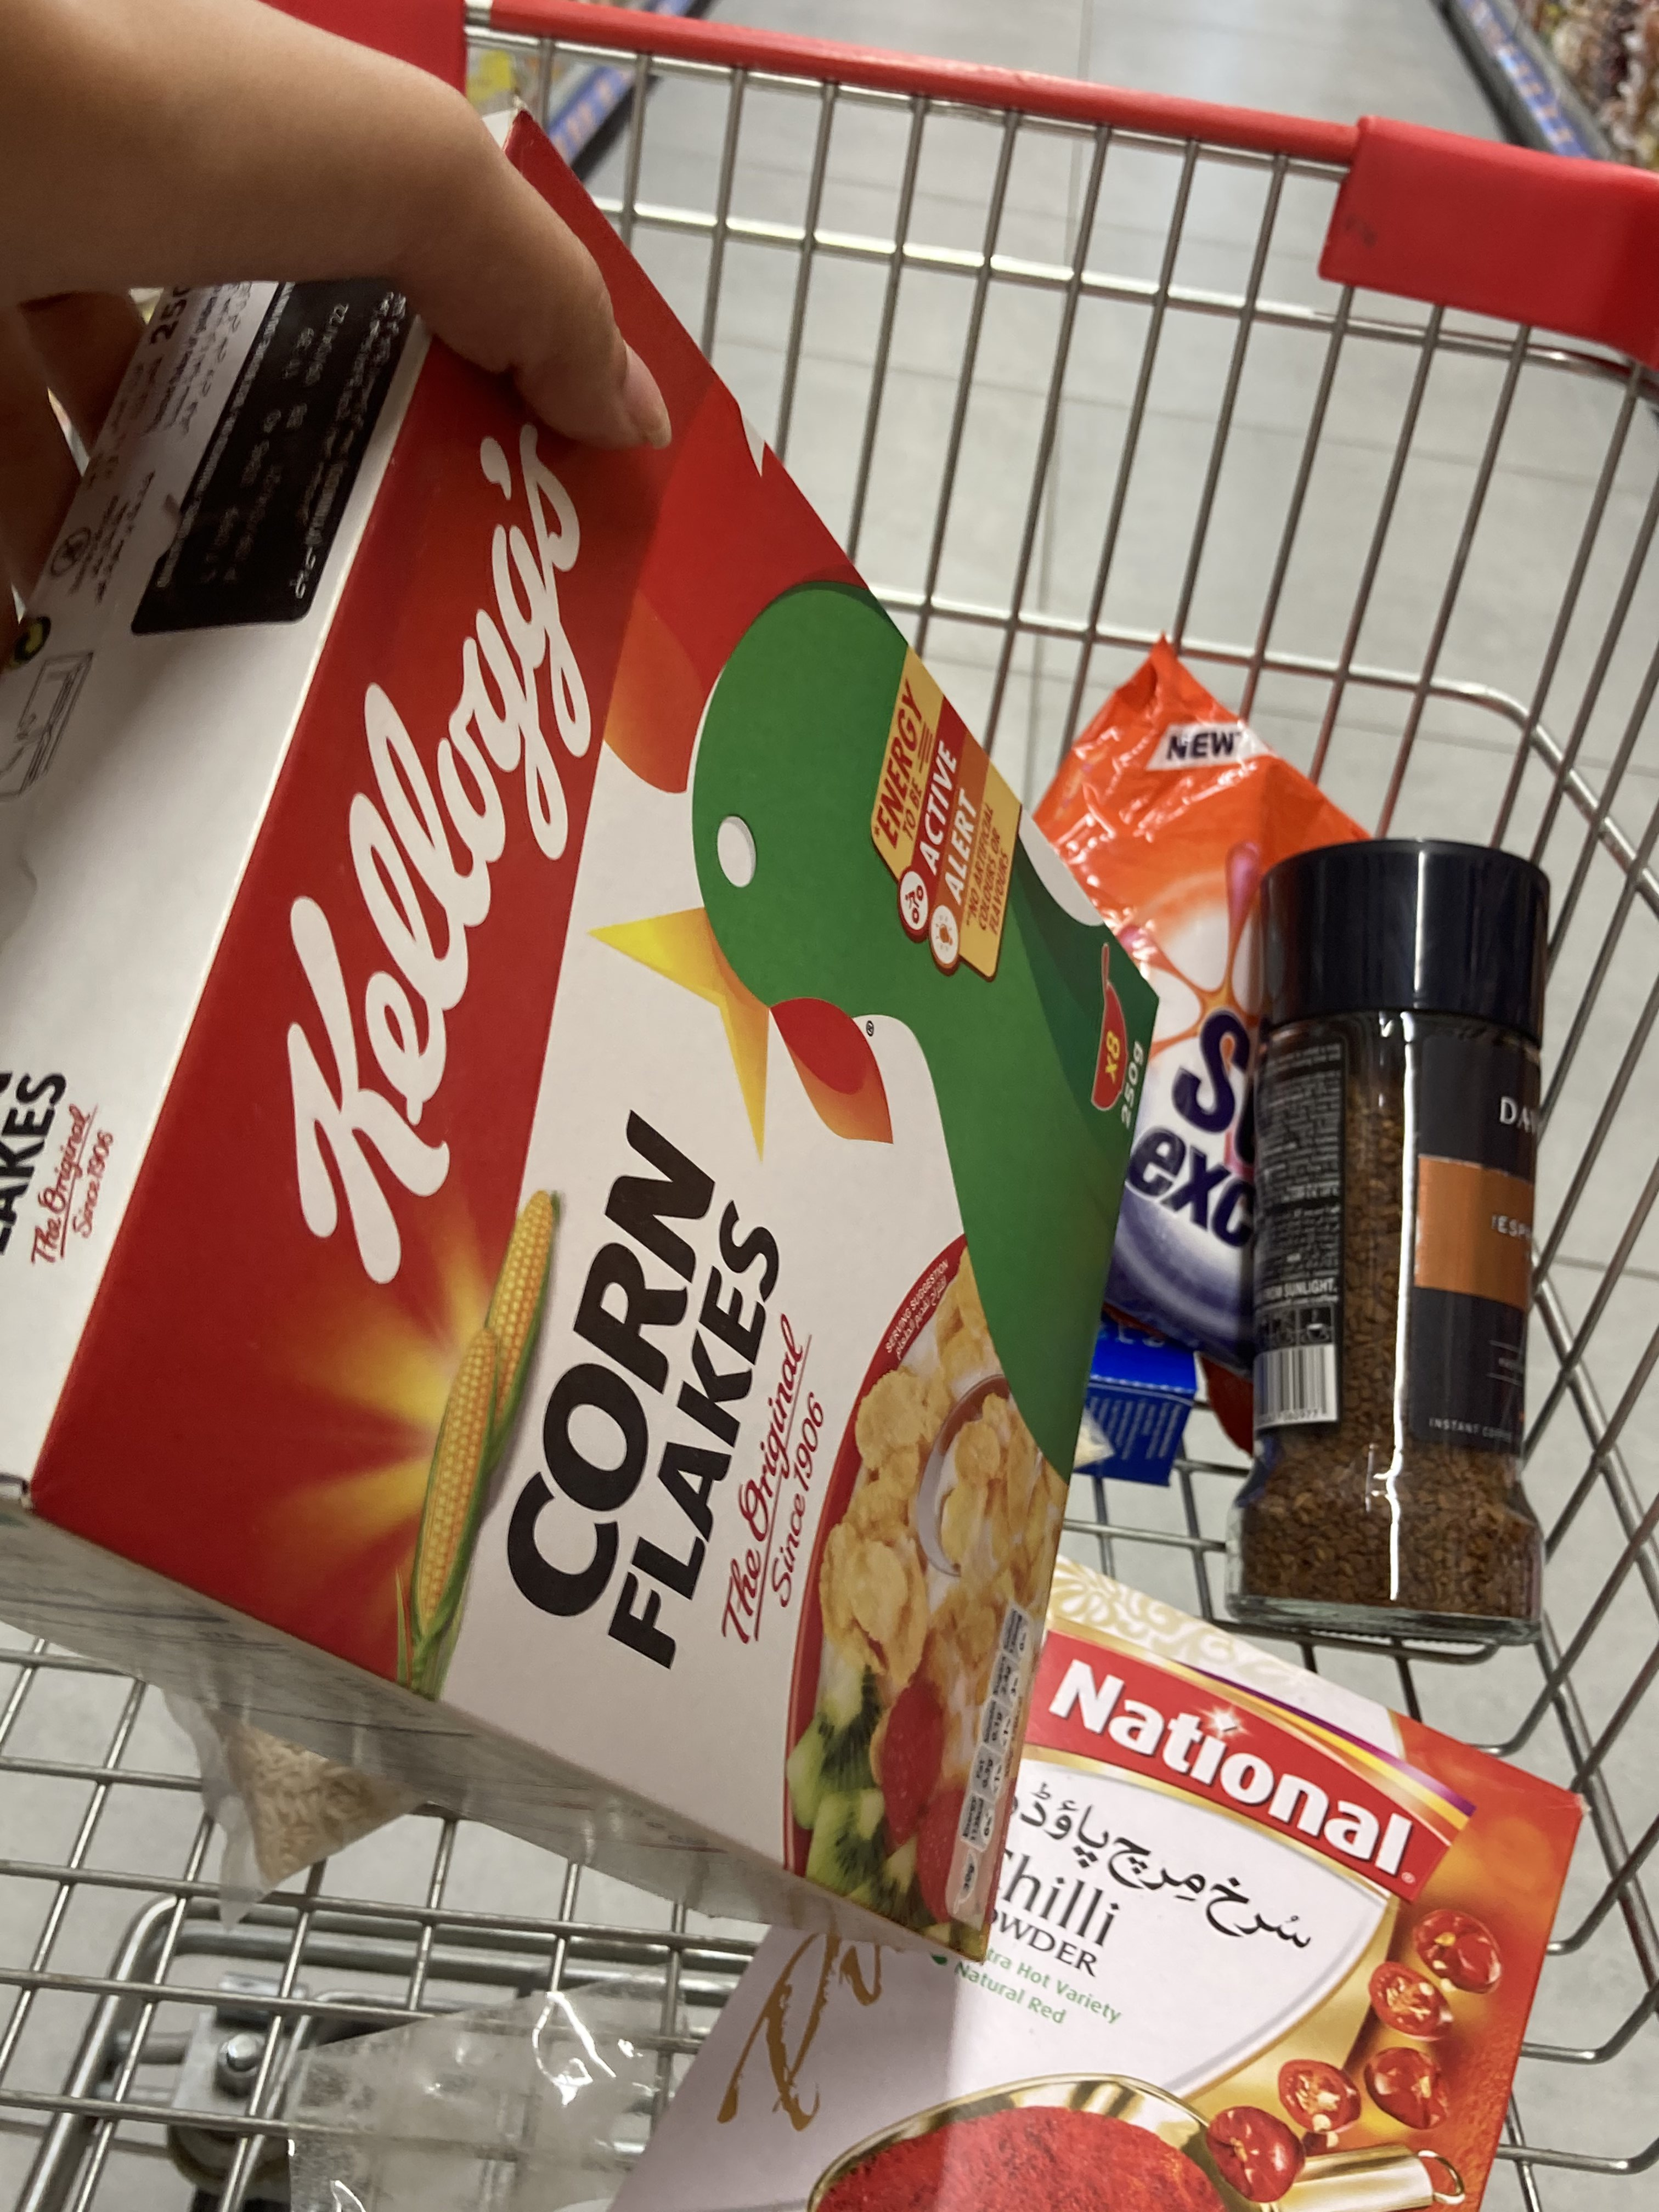Kellogg's Corn Flakes: (12, 108, 1164, 1963)
